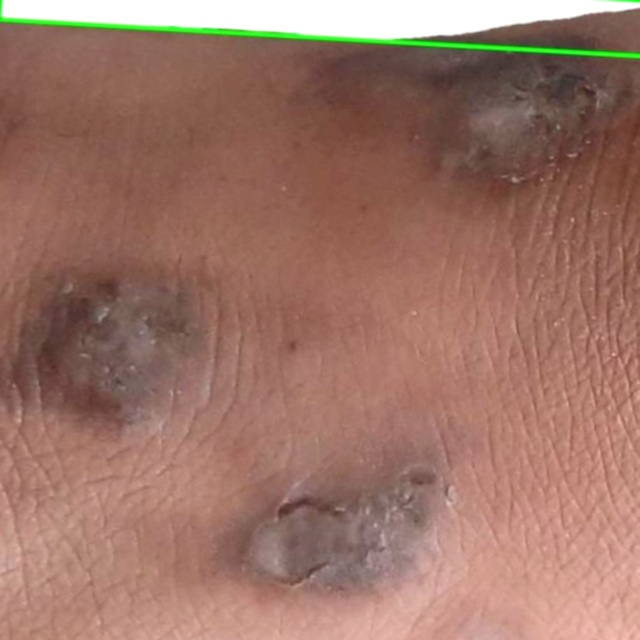Contact Dermatitis: (0, 0, 639, 55)
